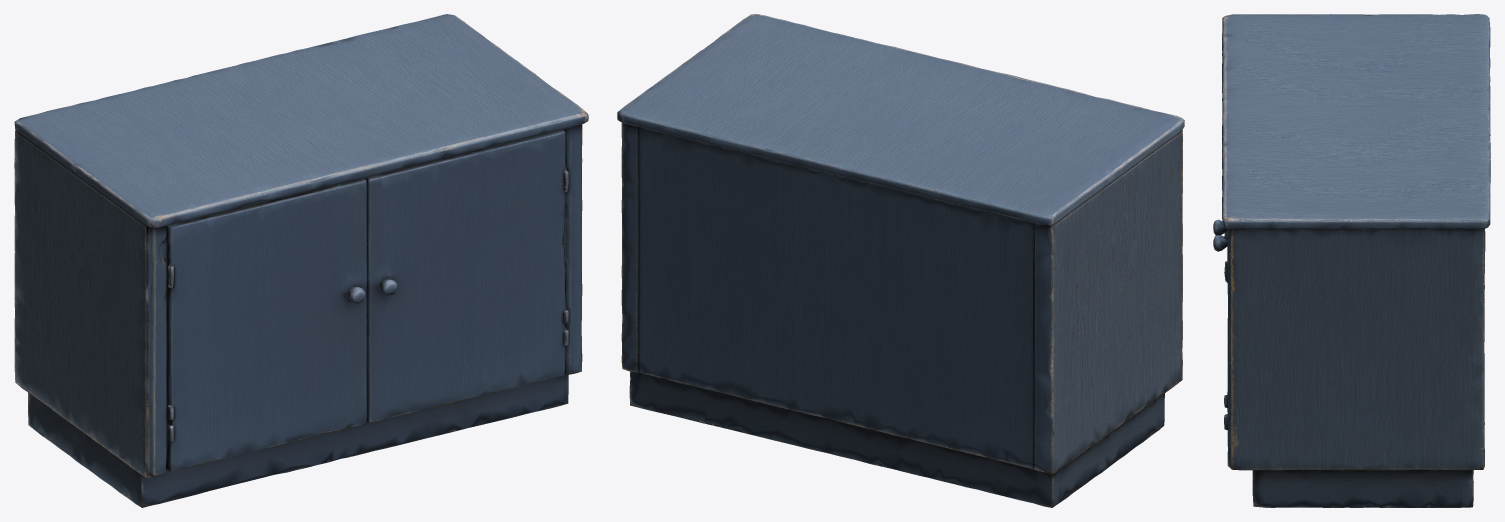
The model's file is VAR_Bedroom_LowCabinet.fbx.
The picture shows the model from 3 angles, left to right: view 1: azimuth 30°, elevation 25°; view 2: azimuth 150°, elevation 25°; view 3: azimuth 270°, elevation 25°; orthographic projection. The views are drawn at different scales.
Parts seen in each view (by area): view 1: texture_mapping; view 2: texture_mapping; view 3: texture_mapping.
Part boxes in pixels (box(x1,y1,x2,y2)): texture_mapping: box(14, 14, 588, 507); texture_mapping: box(617, 14, 1184, 507); texture_mapping: box(1213, 14, 1490, 507).
Size of the model in its own units: 1 by 0.5664 by 0.6571.
1 material, 1 textured.
